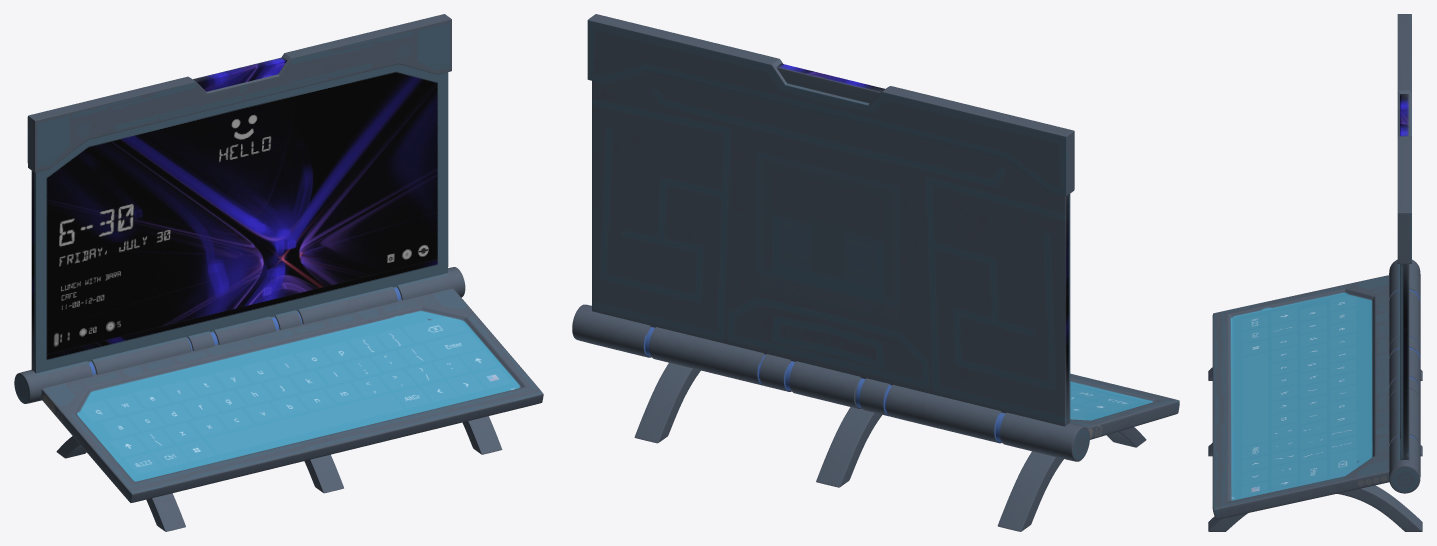
File: Laptop.fbx
3 views of the same model, side by side, from view 1: azimuth 30°, elevation 25°; view 2: azimuth 150°, elevation 25°; view 3: azimuth 270°, elevation 25° (orthographic). The views are drawn at different scales.
Parts seen in each view (by area): view 1: XI FY Laptop.Shape; view 2: XI FY Laptop.Shape; view 3: XI FY Laptop.Shape.
Part boxes in pixels (x1=…): XI FY Laptop.Shape: x1=14, y1=14, x2=543, y2=531; XI FY Laptop.Shape: x1=572, y1=14, x2=1179, y2=531; XI FY Laptop.Shape: x1=1208, y1=14, x2=1422, y2=531.
Size of the model in its own units: 70.69 by 54.07 by 30.77.
